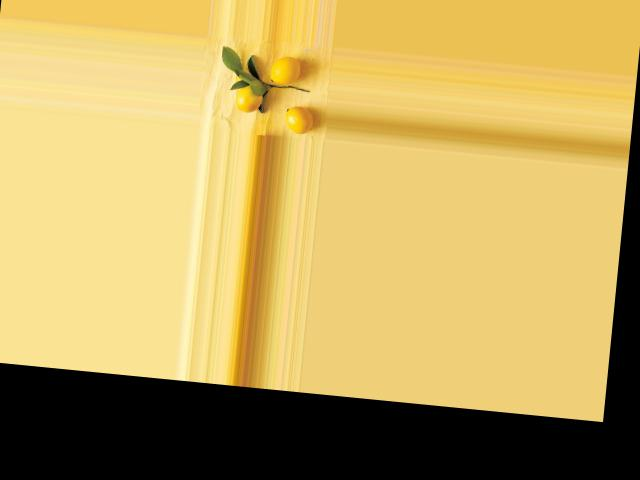lemon: (281, 102, 319, 135)
